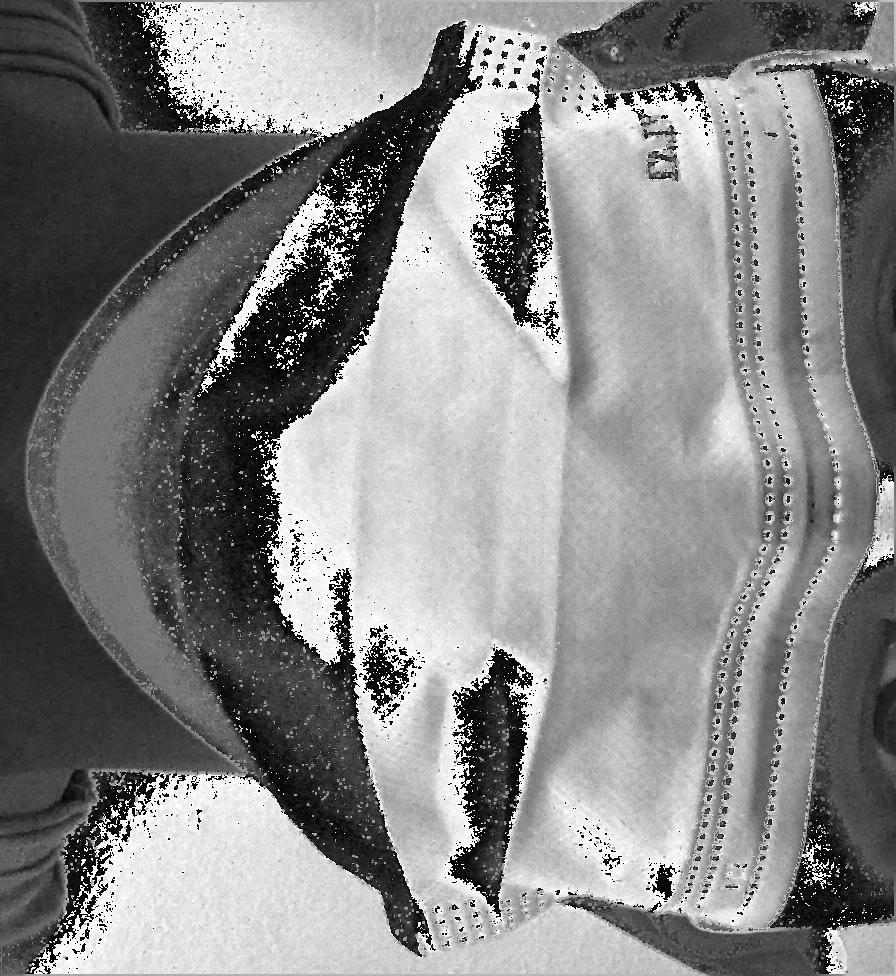High GSM: (315, 172, 686, 854)
